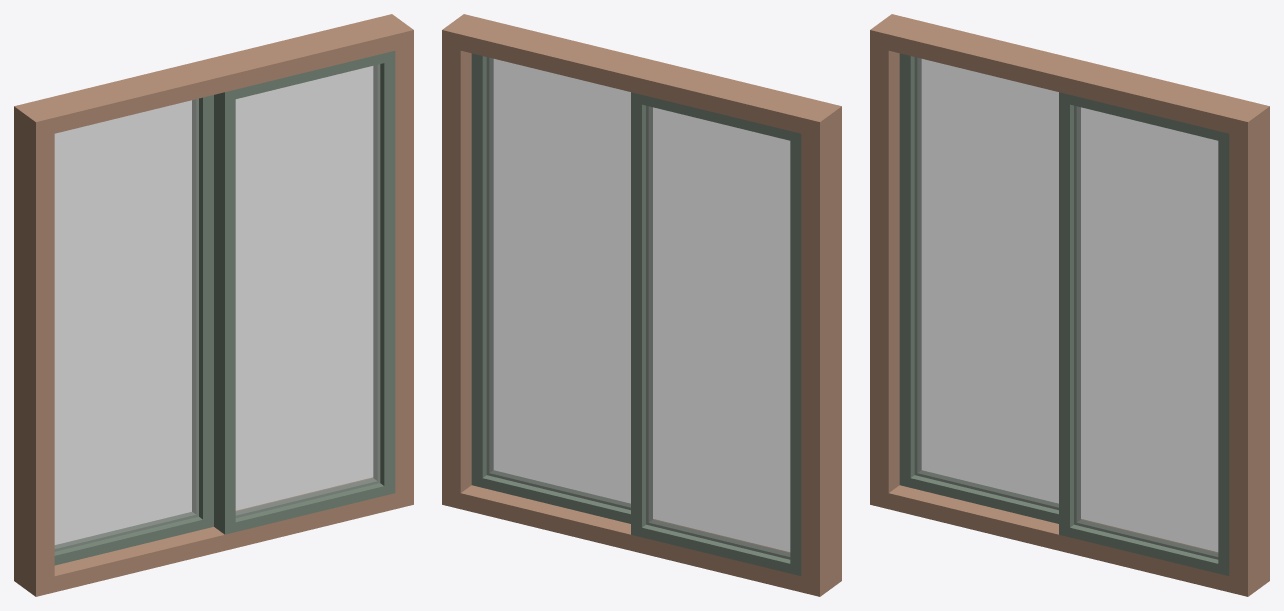
File: Wall_Door01.fbx
The picture shows the model from 3 angles, left to right: view 1: azimuth 30°, elevation 25°; view 2: azimuth 150°, elevation 25°; view 3: azimuth 330°, elevation 25°; orthographic projection.
Visible parts, largest first — view 1: Door01, Door02, Wall; view 2: Door02, Door01, Wall; view 3: Door01, Door02, Wall.
Boxes of the visible parts, <box> form: Door01: <box>214,51,395,534</box>; Door02: <box>54,95,213,565</box>; Wall: <box>14,14,413,596</box>; Door02: <box>631,92,801,575</box>; Door01: <box>471,53,630,523</box>; Wall: <box>442,14,841,596</box>; Door01: <box>1059,92,1229,575</box>; Door02: <box>899,53,1058,523</box>; Wall: <box>870,14,1269,596</box>.
Bounding box in the file's own units: 2 × 2.4 × 0.2.
